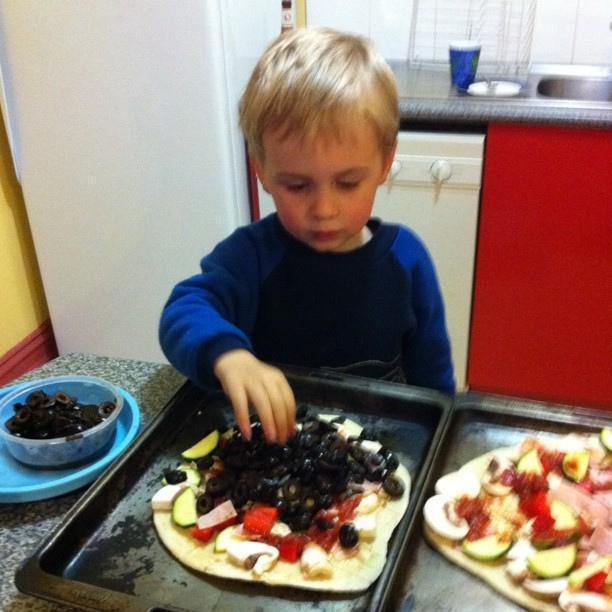Lavaplatos: (534, 52, 611, 103)
